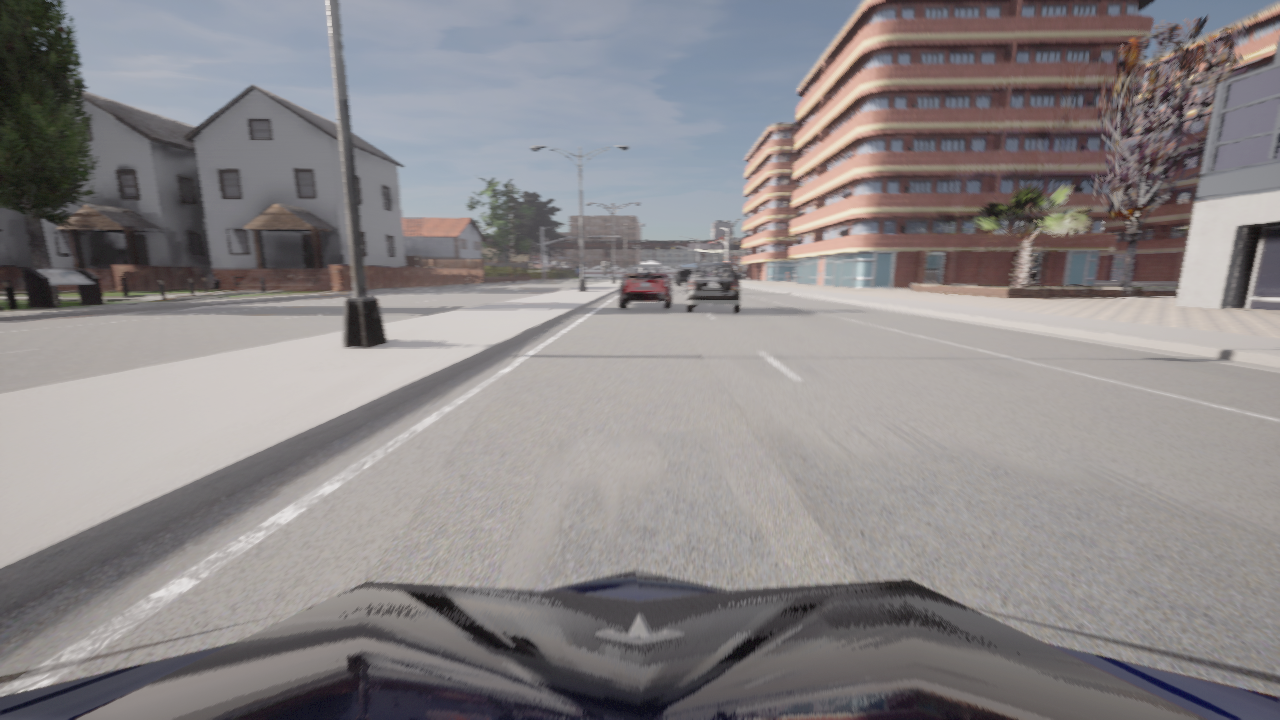cyclist: (0, 569, 1279, 719), (686, 262, 741, 312), (619, 264, 672, 308), (674, 264, 697, 286), (672, 271, 688, 283), (640, 261, 660, 264), (736, 272, 740, 274)
